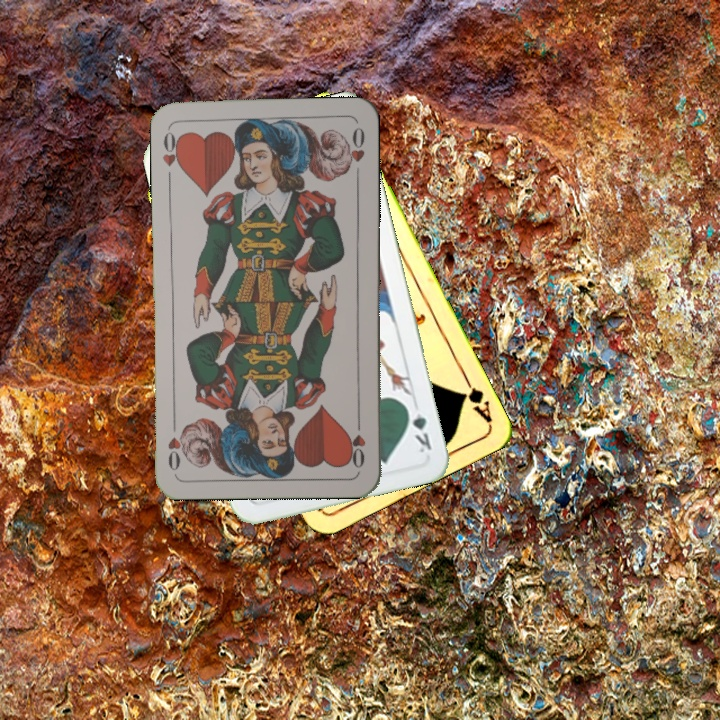GA: (456, 371, 495, 426)
GK: (402, 401, 435, 456)
HO: (346, 412, 368, 471), (159, 124, 185, 173)
